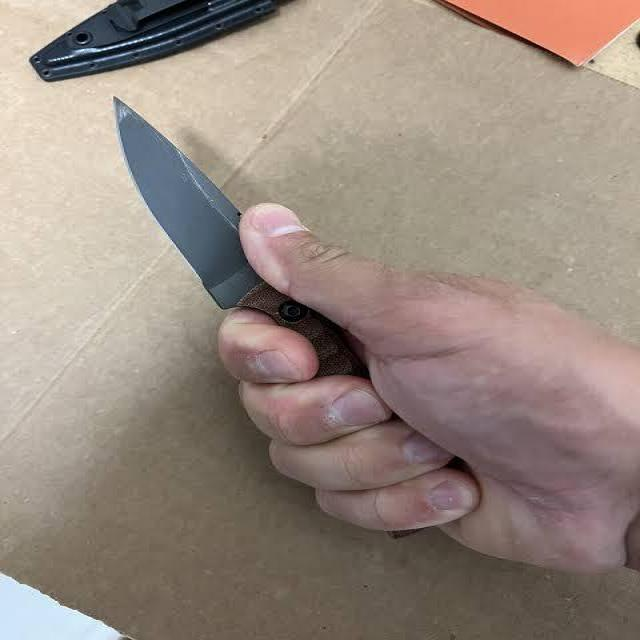knife: (114, 96, 314, 310)
